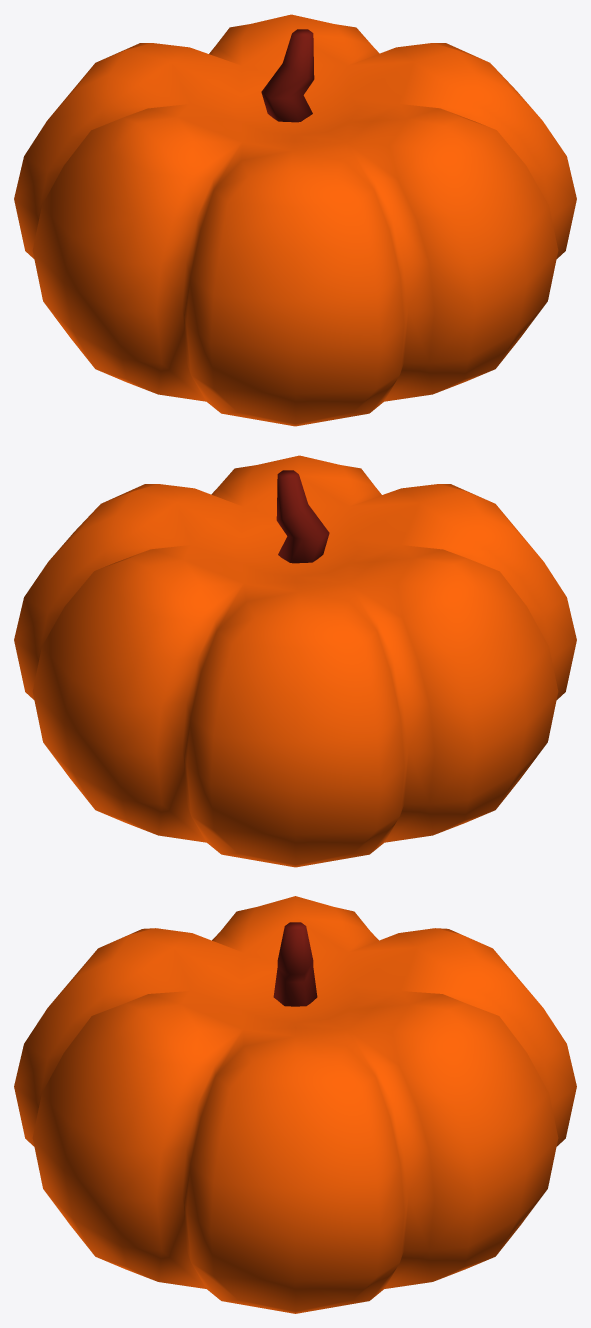
Rendered from Pumpkin.fbx.
3 renders of one model, top to bottom at view 1: azimuth 30°, elevation 25°; view 2: azimuth 150°, elevation 25°; view 3: azimuth 270°, elevation 25°, orthographic.
Visible parts, largest first — view 1: Pumpkin; view 2: Pumpkin; view 3: Pumpkin.
Part boxes in pixels (<box>): Pumpkin: <box>14,14,576,426</box>; Pumpkin: <box>14,455,576,867</box>; Pumpkin: <box>14,896,576,1313</box>.
Bounding box in the file's own units: 2.03 × 1.26 × 2.05.
